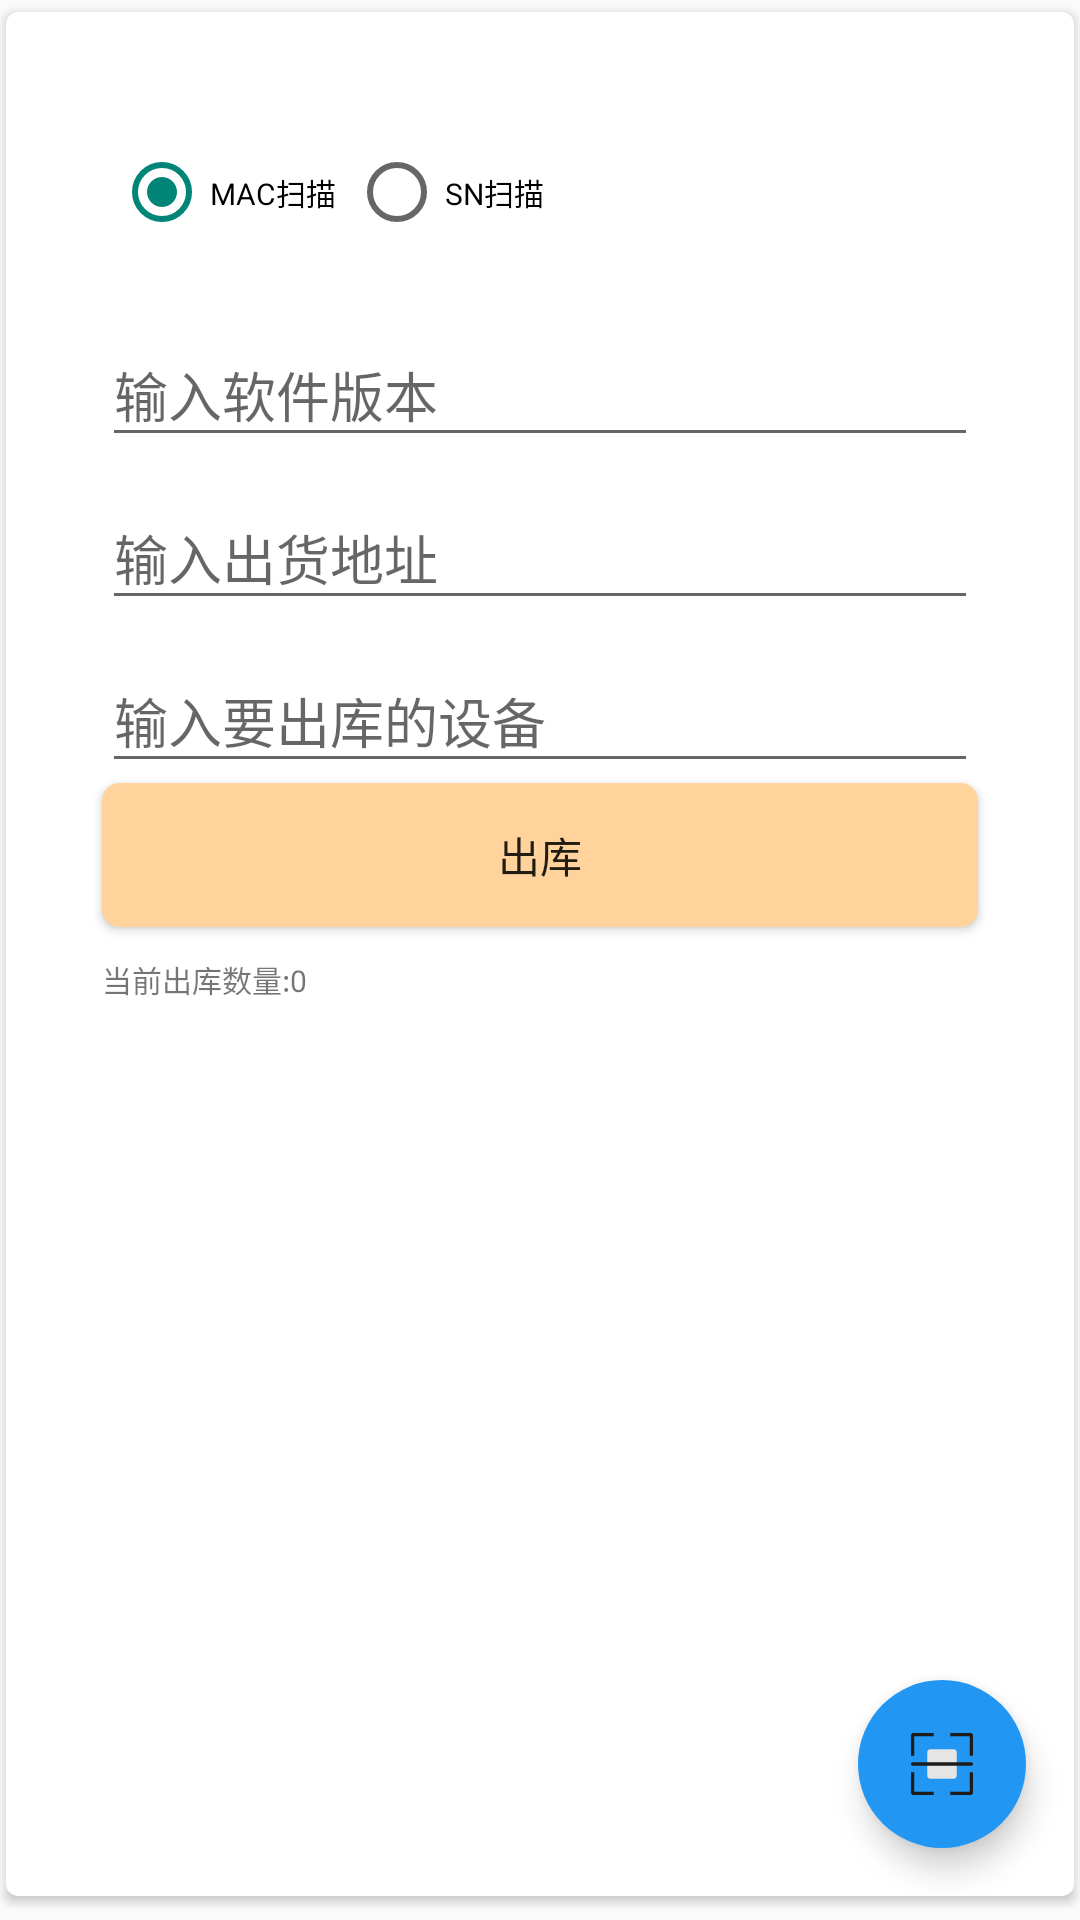

Where to tap for icons on this 1080*1920 app screen, as (x,y):
barcodescanner: (942,1764)
